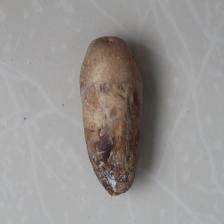Diseased-fungal potato: (79, 33, 146, 197)
